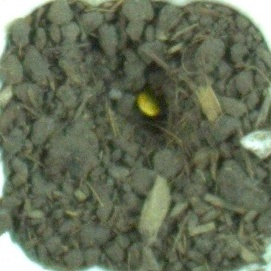pepper seed: (51, 31, 218, 150)
